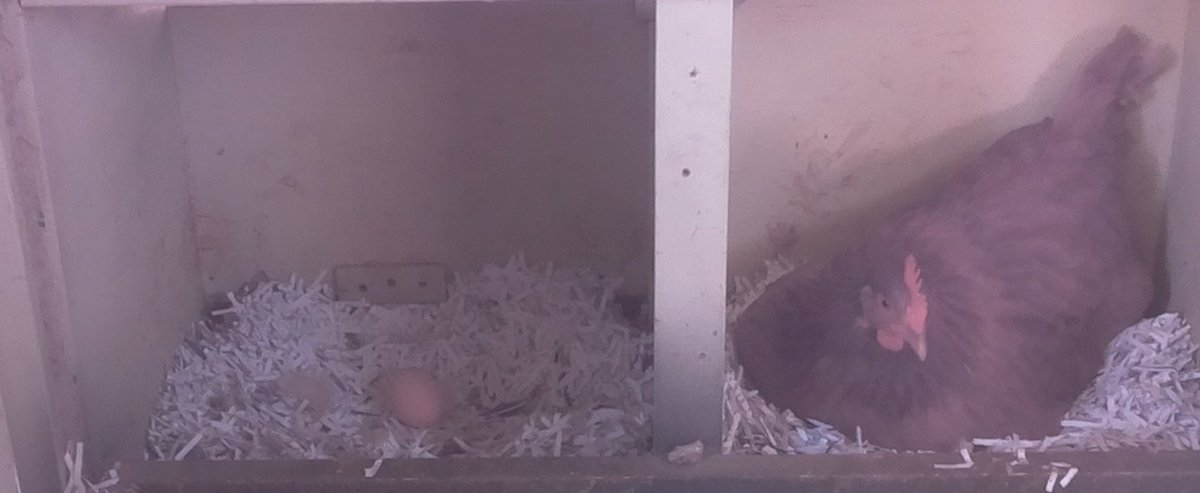egg: (380, 365, 454, 434)
hen: (733, 30, 1165, 440)
